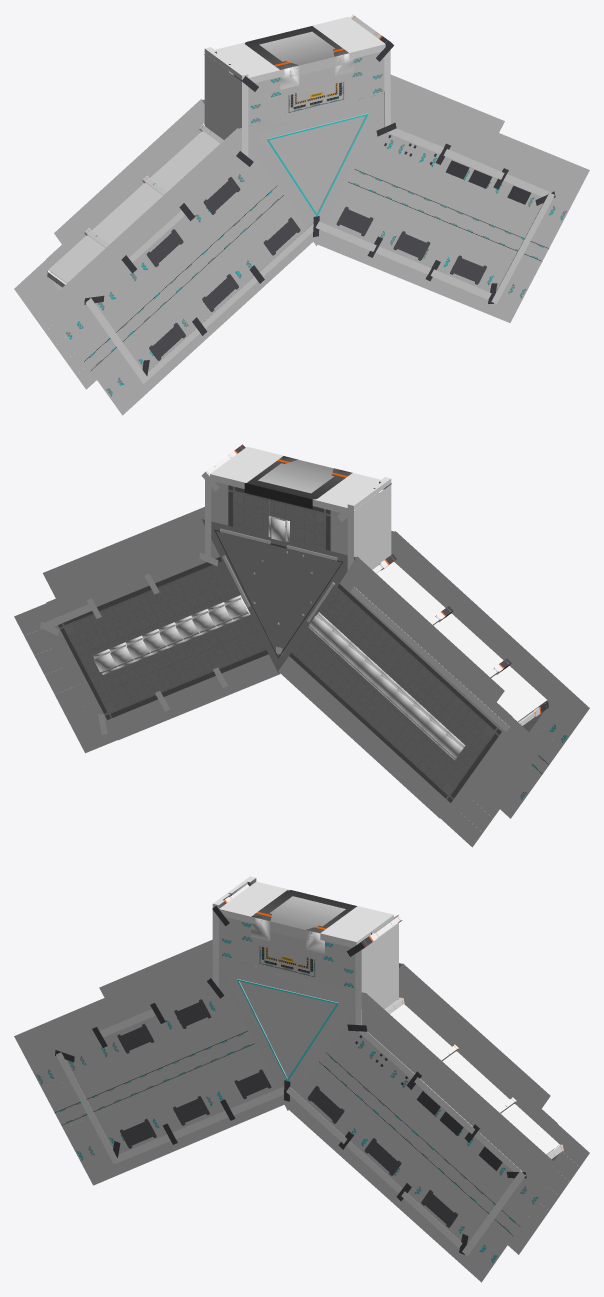
The model's file is ENV_Room1 (Fixed Textures).fbx.
3 renders of one model, top to bottom at view 1: azimuth 30°, elevation 25°; view 2: azimuth 150°, elevation 25°; view 3: azimuth 330°, elevation 25°, orthographic.
Visible parts, largest first — view 1: Plane.118, Plane.120, floor tri.001, Plane.119, Plane.096, Final Door.001, TEXTURED_WT_ExposedPanel.004, b.005, Plane.073, TEXTURED_WT_ExposedPanel.002, b.004, TEXTURED_WT_ExposedPanel.003 (+14 smaller); view 2: Plane.073, Plane.096, Plane.117, ceiling tri.001, Plane.074, Plane.120, Ver3.003, Ver3.002, TEXTURED_WT_ExposedPanel.004, Final Door.001, b.005, b.004 (+5 smaller); view 3: Plane.118, Plane.120, floor tri.001, Plane.073, Plane.119, Final Door.001, TEXTURED_WT_ExposedPanel.001, a.006, TEXTURED_WT_ExposedPanel.002, a.004, Plane.096, a.005 (+14 smaller).
Boxes of the visible parts, bbox=[...] form: Plane.118: bbox=[316, 90, 589, 322]; Plane.120: bbox=[43, 128, 315, 415]; floor tri.001: bbox=[238, 90, 395, 246]; Plane.119: bbox=[248, 52, 384, 125]; Plane.096: bbox=[54, 99, 204, 252]; Final Door.001: bbox=[245, 26, 353, 89]; TEXTURED_WT_ExposedPanel.004: bbox=[204, 47, 248, 156]; b.005: bbox=[92, 183, 184, 262]; Plane.073: bbox=[390, 74, 504, 132]; TEXTURED_WT_ExposedPanel.002: bbox=[312, 16, 385, 59]; b.004: bbox=[149, 131, 219, 191]; TEXTURED_WT_ExposedPanel.003: bbox=[215, 42, 284, 82]; Plane.073: bbox=[53, 518, 239, 655]; Plane.096: bbox=[320, 556, 504, 745]; Plane.117: bbox=[278, 628, 454, 803]; ceiling tri.001: bbox=[201, 519, 355, 673]; Plane.074: bbox=[103, 615, 280, 733]; Plane.120: bbox=[391, 531, 589, 818]; Ver3.003: bbox=[308, 612, 465, 760]; Ver3.002: bbox=[93, 595, 250, 674]; TEXTURED_WT_ExposedPanel.004: bbox=[347, 477, 391, 570]; Final Door.001: bbox=[244, 456, 352, 508]; b.005: bbox=[408, 613, 503, 695]; b.004: bbox=[350, 562, 445, 643]; Plane.118: bbox=[287, 993, 561, 1282]; Plane.120: bbox=[14, 954, 286, 1185]; floor tri.001: bbox=[209, 955, 366, 1110]; Plane.073: bbox=[399, 963, 550, 1120]; Plane.119: bbox=[219, 917, 355, 990]; Final Door.001: bbox=[251, 890, 356, 954]; TEXTURED_WT_ExposedPanel.001: bbox=[355, 922, 398, 1025]; a.006: bbox=[414, 1051, 509, 1133]; TEXTURED_WT_ExposedPanel.002: bbox=[320, 906, 393, 947]; a.004: bbox=[358, 1004, 451, 1078]; Plane.096: bbox=[99, 939, 212, 997]; a.005: bbox=[474, 1104, 559, 1171].
Size of the model in its own units: 12817 by 7013 by 1596.
Materials: 26 (20 with a texture image).
